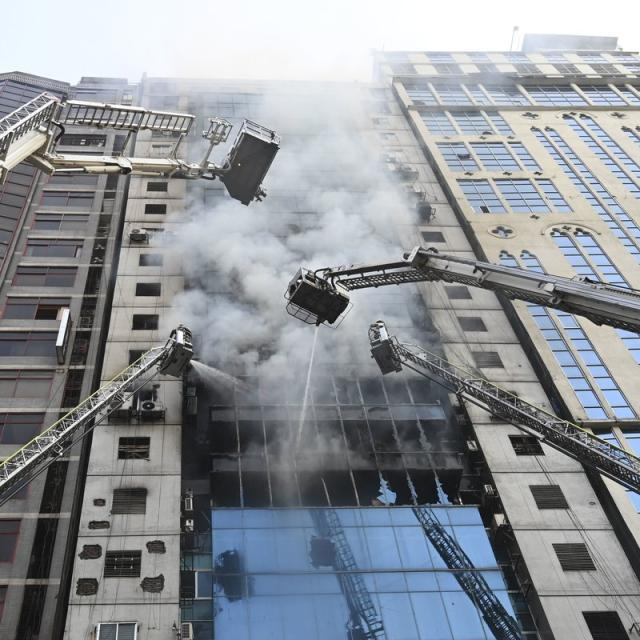Smoke: (153, 90, 426, 478)
